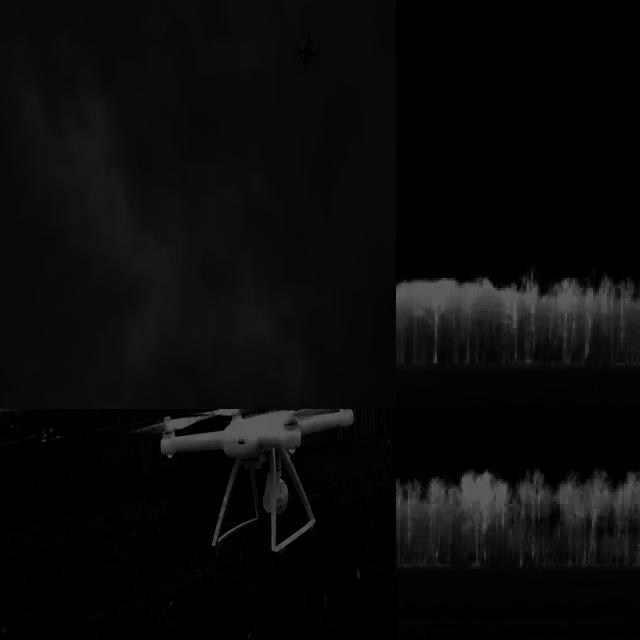drone: (145, 409, 383, 549), (294, 23, 320, 69)
